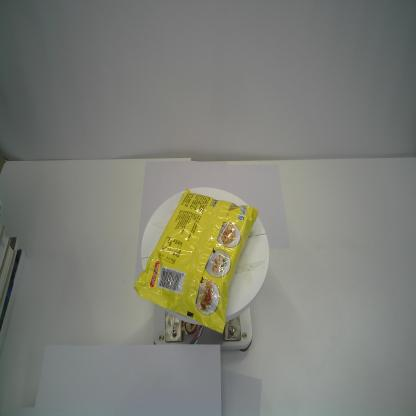Instant Noodles: (133, 188, 259, 334)
